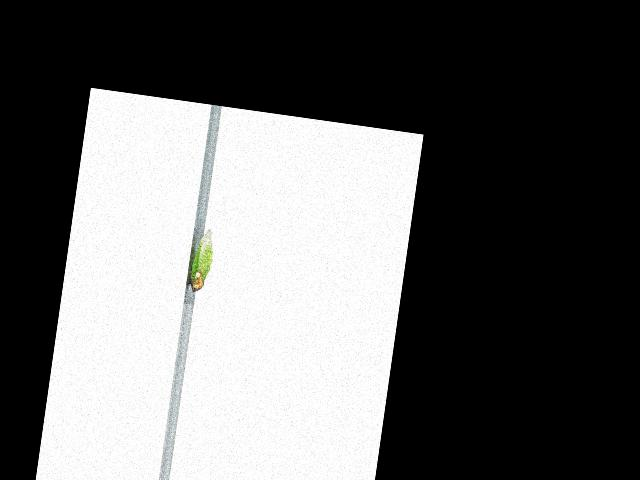lettuce: (184, 226, 218, 296)
